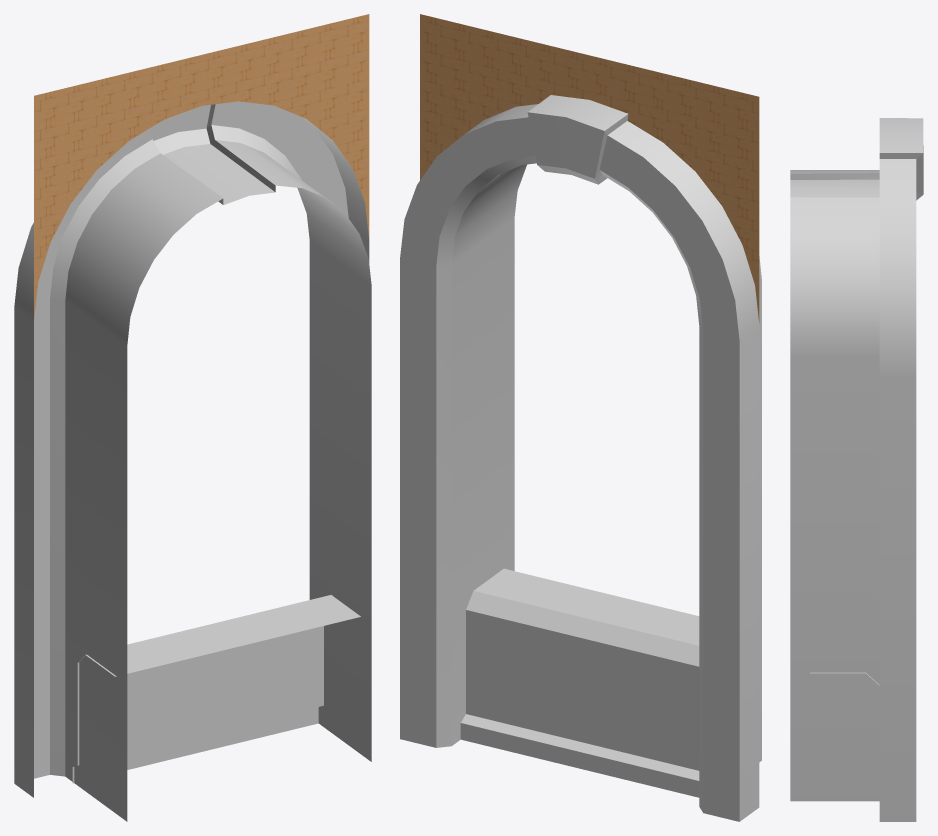
Rendered from Arc_Wall_12x6.fbx.
3 views of the same model, side by side, from view 1: azimuth 30°, elevation 25°; view 2: azimuth 150°, elevation 25°; view 3: azimuth 270°, elevation 25° (orthographic). The views are drawn at different scales.
Parts seen in each view (by area): view 1: Arc_Wall_12x6; view 2: Arc_Wall_12x6; view 3: Arc_Wall_12x6.
Boxes of the visible parts, x1,y1,x2,y2 form: Arc_Wall_12x6: (14,14,371,821); Arc_Wall_12x6: (400,14,761,821); Arc_Wall_12x6: (790,118,923,821).
Size of the model in its own units: 600 by 1200 by 221.
